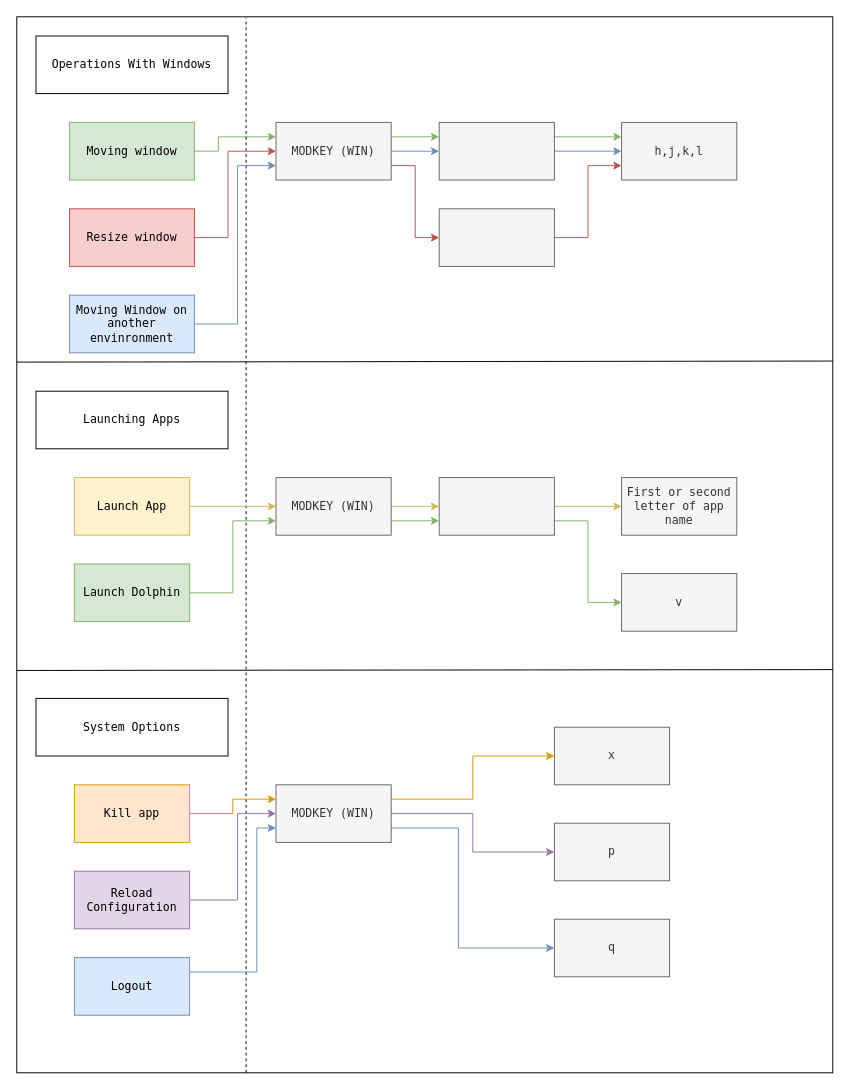
This 851x1091 diagram has some shape labels left out. Each missing label, with the centre of its shape:
"Alt" belongs at (x=496, y=506).
"Ctrl" belongs at (x=496, y=237).
"Shift" belongs at (x=496, y=150).
